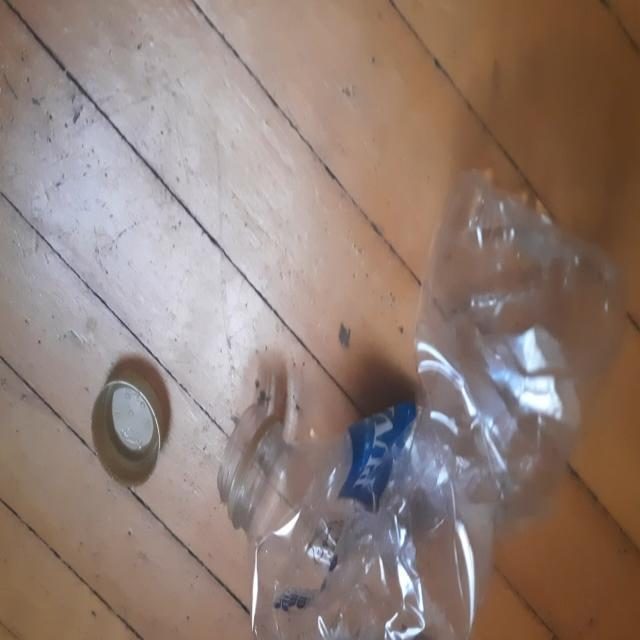Plastic: (221, 167, 624, 638)
